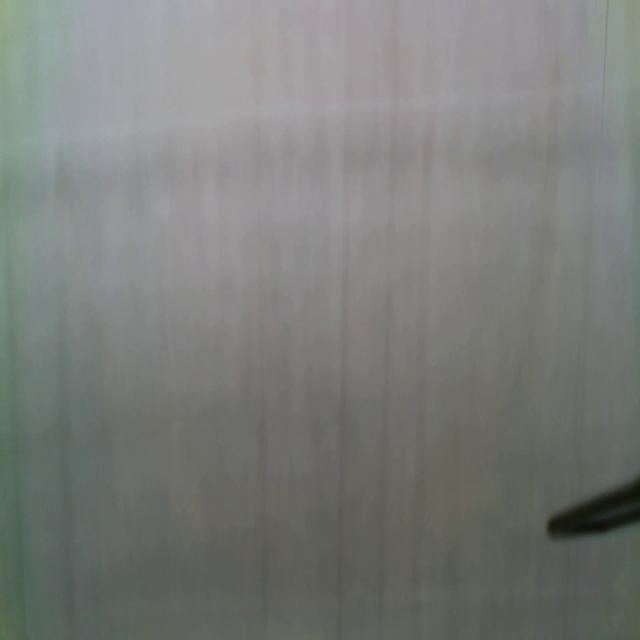color bleeding: (1, 102, 640, 232)
crease: (598, 0, 610, 141)
